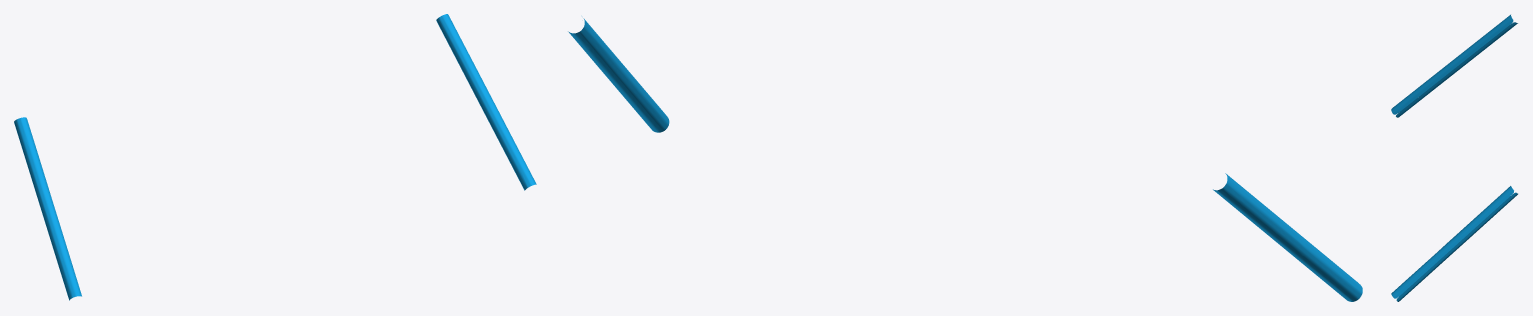
Rendered from c_pillar.glb.
The picture shows the model from 3 angles, left to right: view 1: azimuth 30°, elevation 25°; view 2: azimuth 150°, elevation 25°; view 3: azimuth 270°, elevation 25°; orthographic projection. The views are drawn at different scales.
Visible parts, largest first — view 1: C_Pillar_Fastback_RH, C_Pillar_Fastback_LH; view 2: C_Pillar_Fastback_LH, C_Pillar_Fastback_RH; view 3: C_Pillar_Fastback_RH, C_Pillar_Fastback_LH.
Boxes of the visible parts, x1=… form: C_Pillar_Fastback_RH: x1=436, y1=14, x2=536, y2=190; C_Pillar_Fastback_LH: x1=14, y1=117, x2=81, y2=300; C_Pillar_Fastback_LH: x1=1213, y1=173, x2=1362, y2=301; C_Pillar_Fastback_RH: x1=568, y1=18, x2=669, y2=132; C_Pillar_Fastback_RH: x1=1391, y1=186, x2=1517, y2=301; C_Pillar_Fastback_LH: x1=1391, y1=14, x2=1517, y2=117.
Bounding box in the file's own units: 1.68 × 0.4507 × 0.4787.
